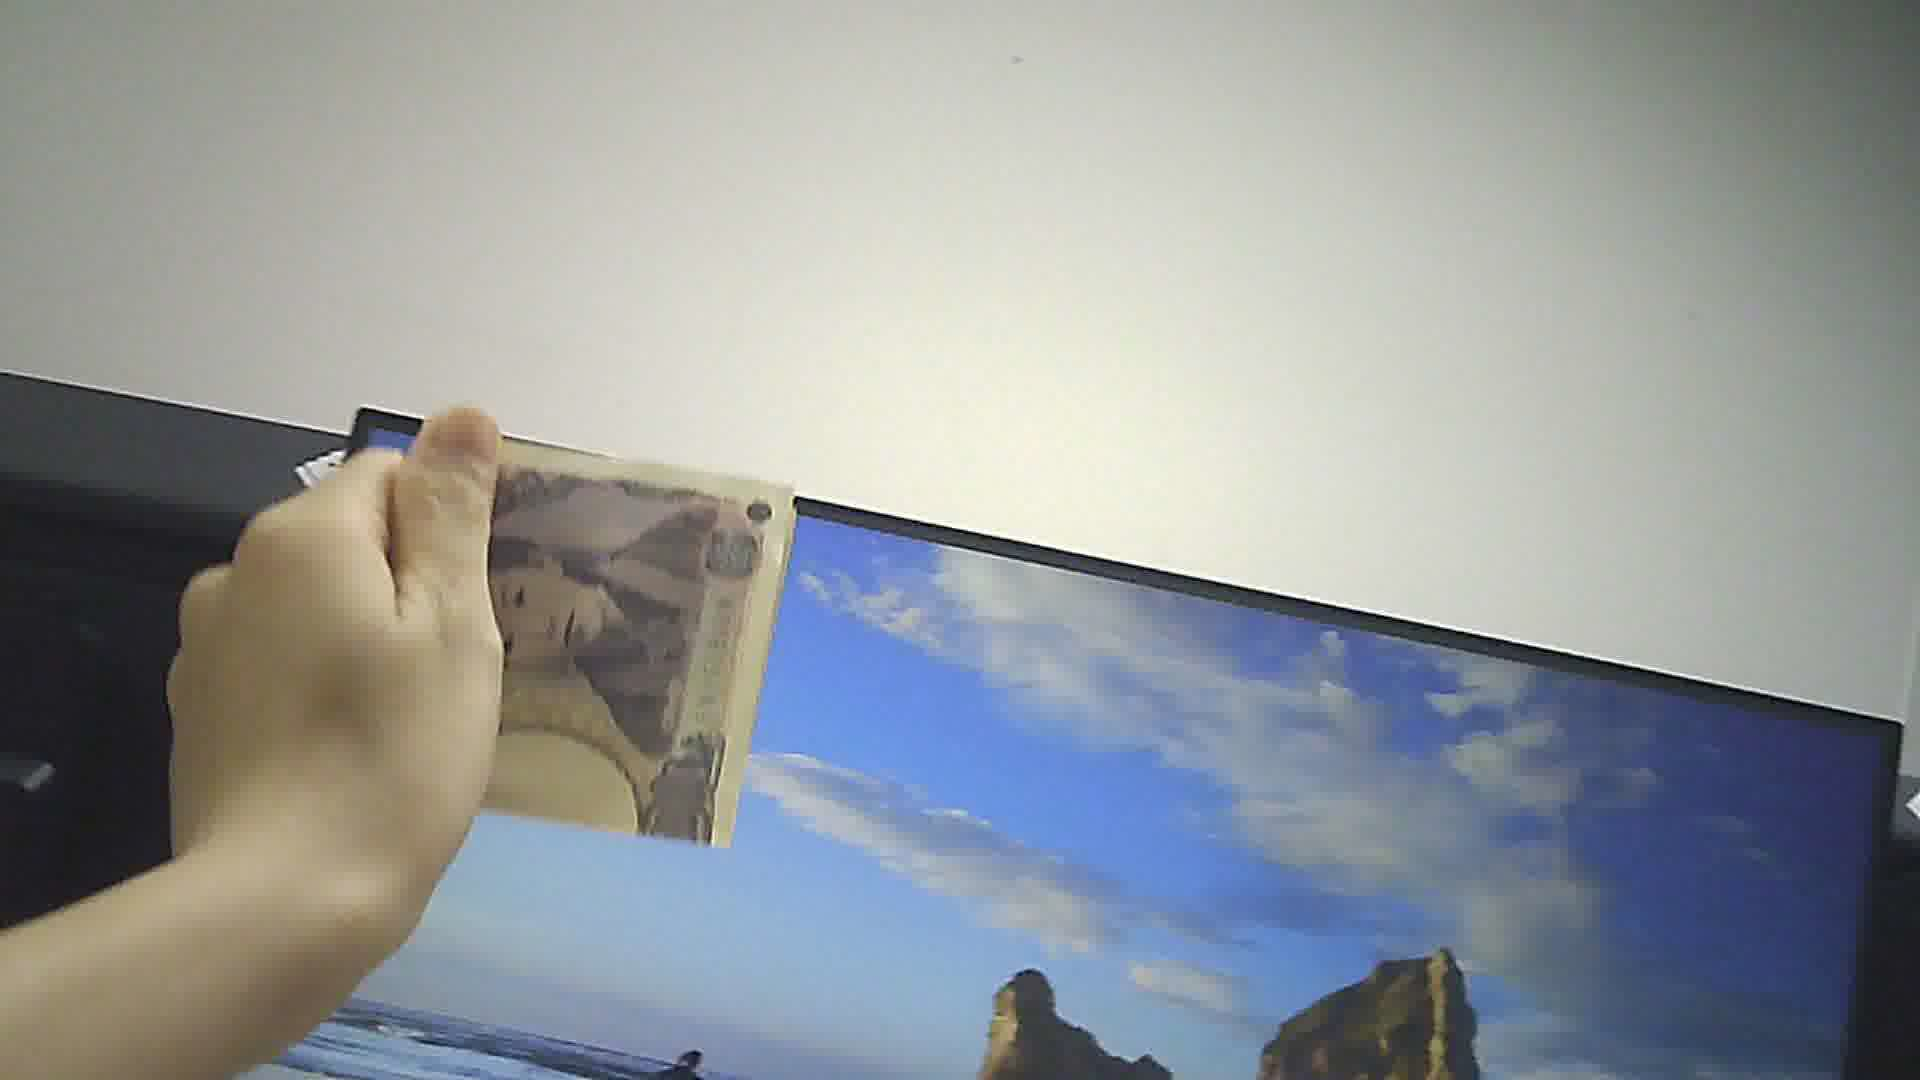5,000 Yen: (394, 423, 812, 869)
